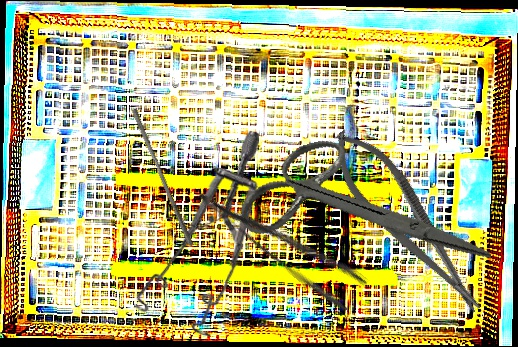Dressing Forceps: (194, 164, 370, 316)
Iris Scissors: (228, 105, 492, 318)
Needle Holder: (316, 117, 498, 328)
Pusher: (126, 108, 200, 247)
Speculum: (124, 130, 270, 341)
